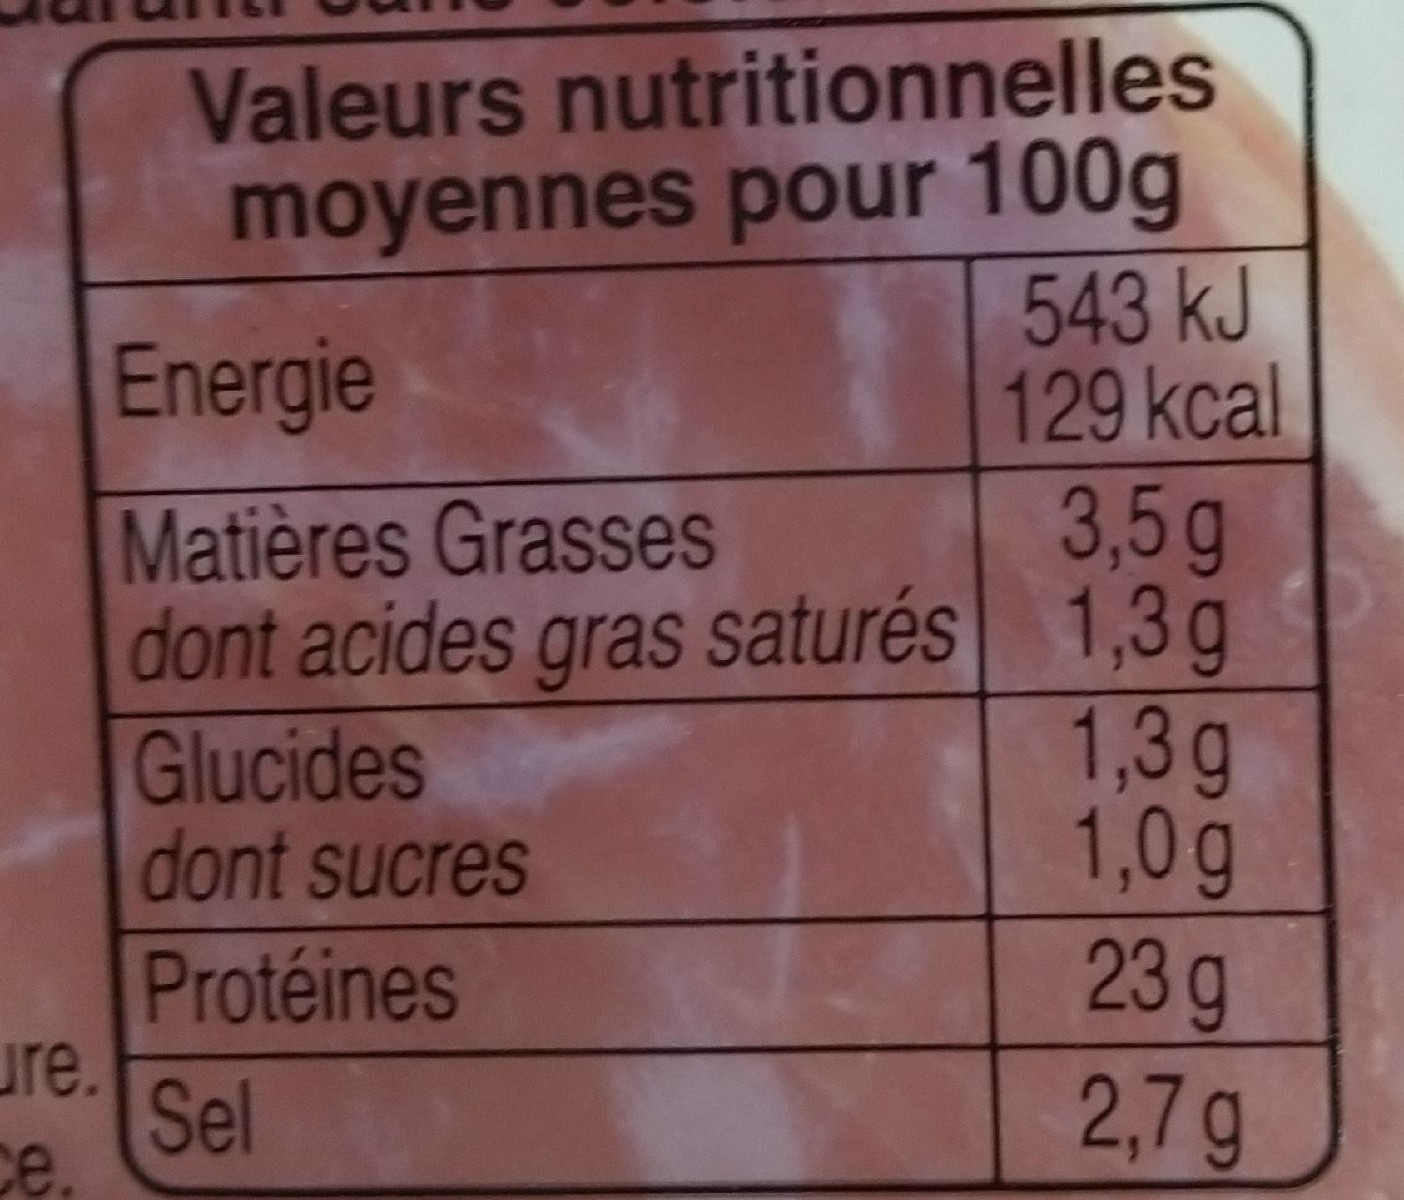column: (110, 264, 955, 1180), (1001, 256, 1287, 1190)
table: (55, 1, 1346, 1199)
